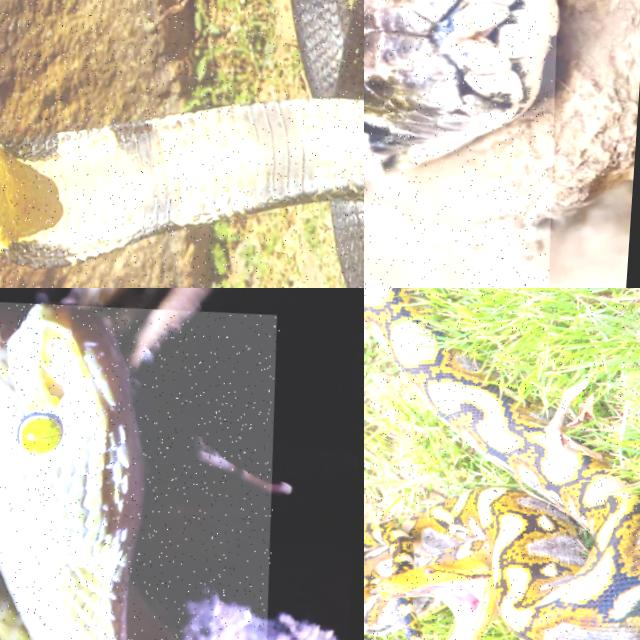Malayopython reticulatus: (364, 288, 639, 639)
Ophiophagus hannah: (0, 0, 363, 287)
Python bivittatus: (364, 0, 558, 179)
Trimeresurus macrops: (0, 304, 177, 639)
snake: (0, 0, 363, 287), (364, 288, 639, 639), (0, 304, 177, 639), (364, 0, 558, 179)
